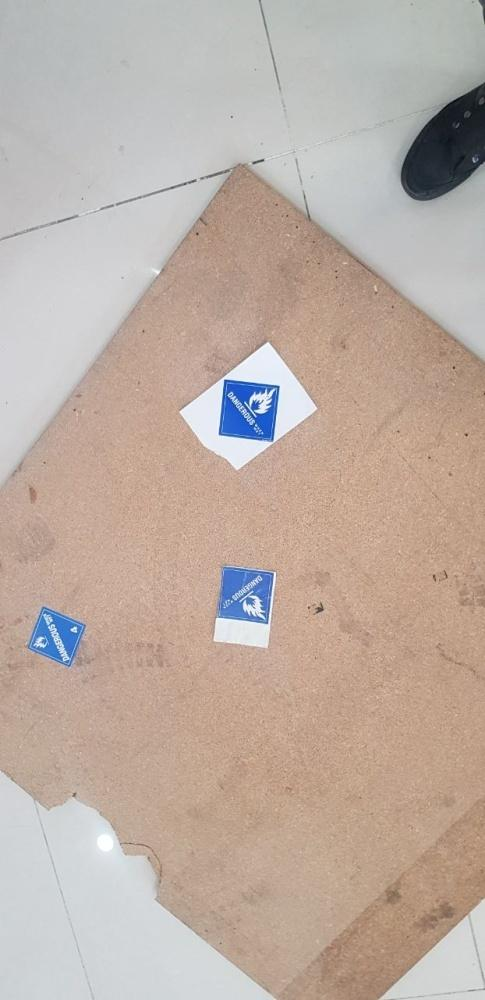dangerous-when-wet: (219, 378, 281, 440), (25, 606, 86, 668), (218, 567, 272, 620)
